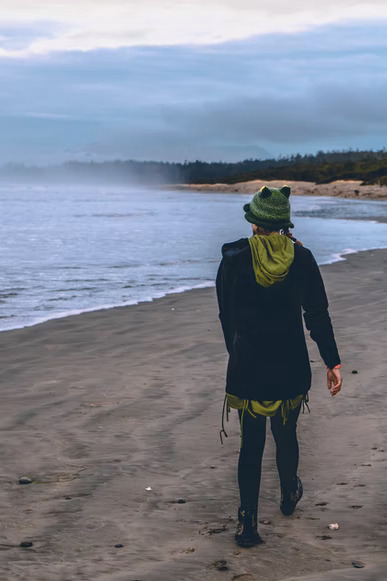person: (214, 188, 343, 544)
